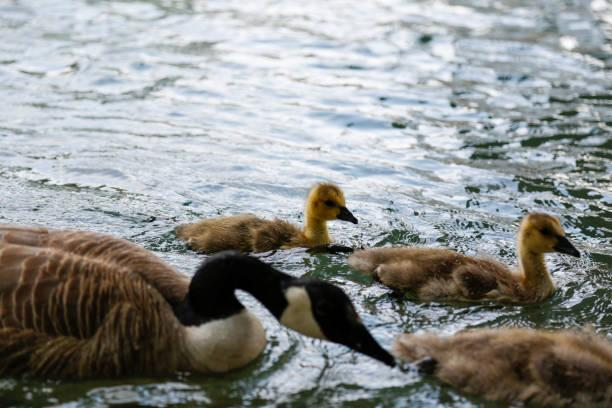Canadian-Goose: (0, 211, 392, 383), (363, 205, 575, 299), (409, 319, 612, 405), (182, 176, 363, 256)
